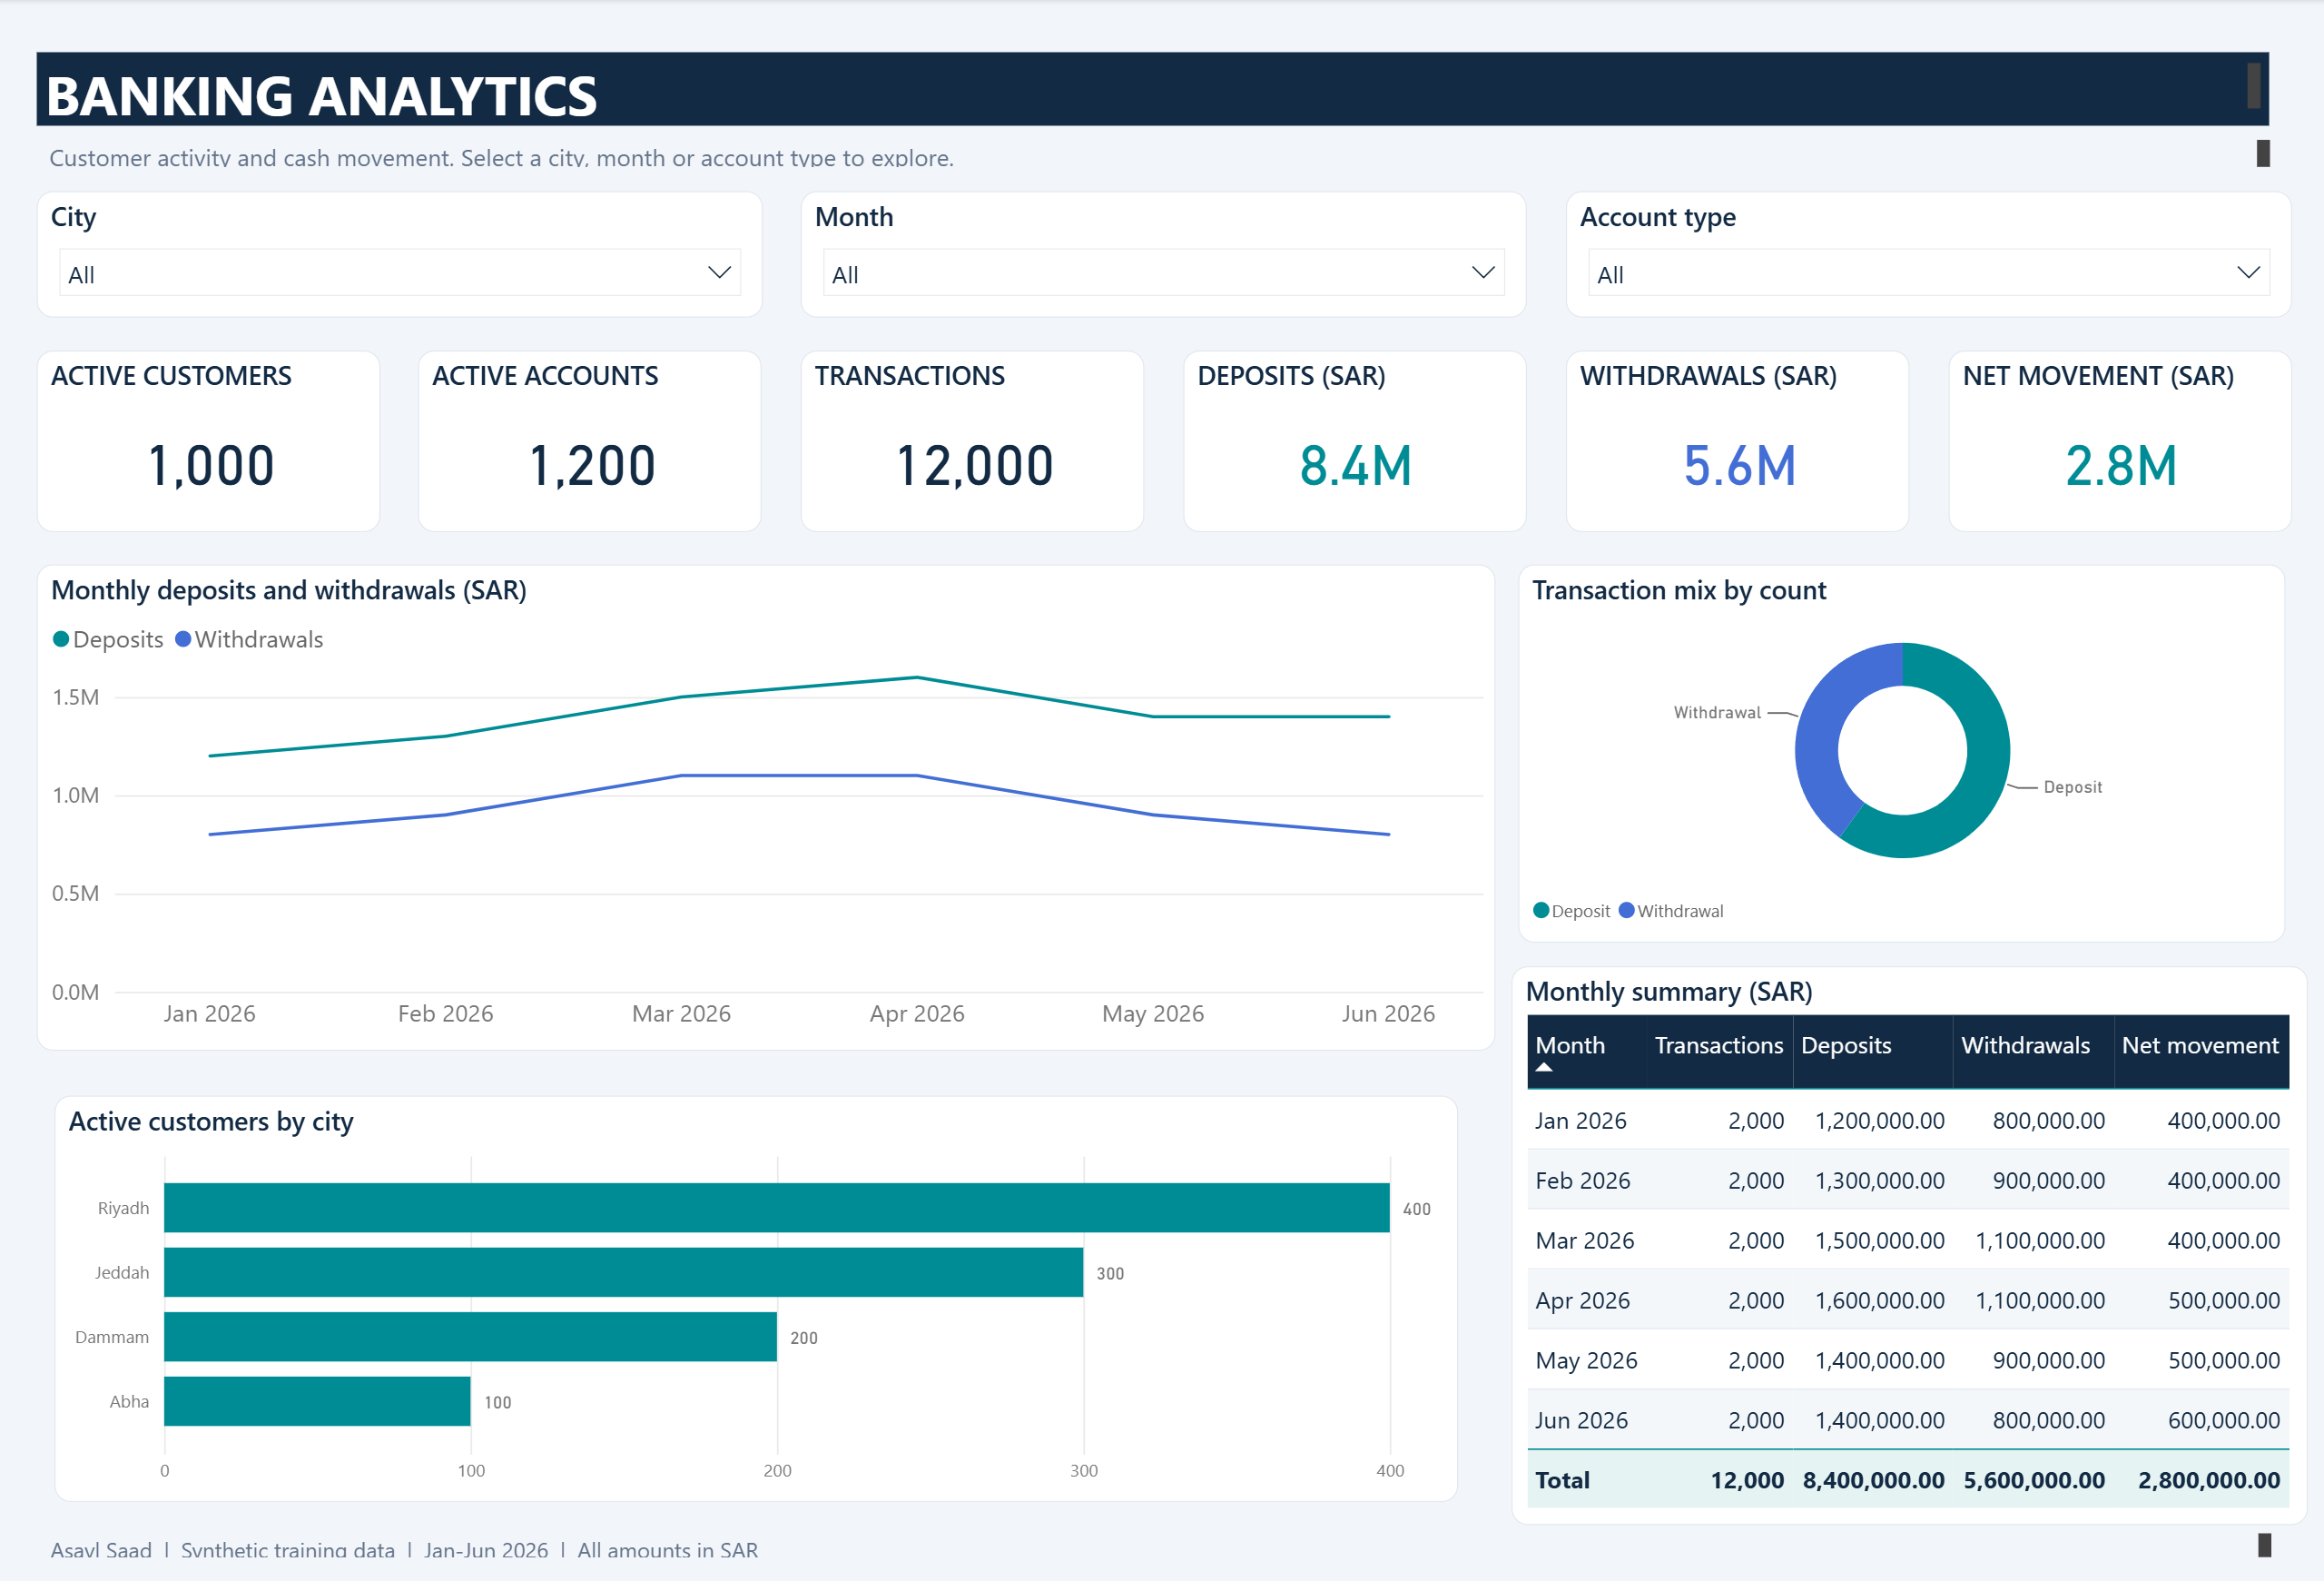

What the dashboard file says about the page in this screenshot:
{"tool":"powerbi","page":{"name":"01  Overview","canvas":[1440,960],"ordinal":0},"visuals":[{"type":"textbox","box":[24.4,16,1377,45.4],"z":0},{"type":"textbox","box":[27,65,1380,27],"z":1000},{"type":"textbox","box":[28,924,1380,25],"z":2000},{"type":"slicer","title":"City","fields":{"Values":["Customers.City"]},"box":[24,102,448,78],"z":3000},{"type":"slicer","title":"Month","fields":{"Values":["Calendar.YearMonth"]},"box":[496,102,448,78],"z":4000},{"type":"slicer","title":"Account type","fields":{"Values":["Accounts.AccountType"]},"box":[968,102,448,78],"z":5000},{"type":"card","title":"ACTIVE CUSTOMERS","fields":{"Values":["Transactions.Active Customers"]},"box":[24,200,212,112],"z":6000},{"type":"card","title":"ACTIVE ACCOUNTS","fields":{"Values":["Transactions.Active Accounts"]},"box":[260,200,212,112],"z":7000},{"type":"card","title":"TRANSACTIONS","fields":{"Values":["Transactions.Total Transactions"]},"box":[496,200,212,112],"z":8000},{"type":"card","title":"DEPOSITS (SAR)","fields":{"Values":["Transactions.Total Deposits"]},"box":[732,200,212,112],"z":9000},{"type":"card","title":"WITHDRAWALS (SAR)","fields":{"Values":["Transactions.Total Withdrawals"]},"box":[968,200,212,112],"z":10000},{"type":"card","title":"NET MOVEMENT (SAR)","fields":{"Values":["Transactions.Net Movement"]},"box":[1204,200,212,112],"z":11000},{"type":"lineChart","title":"Monthly deposits and withdrawals (SAR)","fields":{"Category":["Calendar.YearMonth"],"Y":["Transactions.Total Deposits","Transactions.Total Withdrawals"]},"box":[24.4,331.9,899.8,299.9],"z":12000},{"type":"donutChart","title":"Transaction mix by count","fields":{"Category":["Transactions.TransactionType"],"Y":["Transactions.Total Transactions"]},"box":[938.4,331.9,473,233.6],"z":13000},{"type":"clusteredBarChart","title":"Active customers by city","fields":{"Category":["Customers.City"],"Y":["Transactions.Active Customers"]},"box":[35.3,659.5,866.2,250.4],"z":14000},{"type":"tableEx","title":"Monthly summary (SAR)","fields":{"Values":["Calendar.YearMonth","Transactions.Total Transactions","Transactions.Total Deposits","Transactions.Total Withdrawals","Transactions.Net Movement"]},"box":[934.2,579.7,491.5,344.5],"z":15000}]}

Visuals, with their boxes in screenshot pixels (x1, y1, x2, y2), scaled from the page's 1440x960 canvas onto the 2324x1581 screenshot:
textbox: (x1=39, y1=26, x2=2261, y2=101)
textbox: (x1=44, y1=107, x2=2270, y2=152)
textbox: (x1=45, y1=1522, x2=2272, y2=1563)
"City" slicer: (x1=39, y1=168, x2=762, y2=296)
"Month" slicer: (x1=801, y1=168, x2=1523, y2=296)
"Account type" slicer: (x1=1562, y1=168, x2=2285, y2=296)
"ACTIVE CUSTOMERS" card: (x1=39, y1=330, x2=381, y2=514)
"ACTIVE ACCOUNTS" card: (x1=419, y1=330, x2=762, y2=514)
"TRANSACTIONS" card: (x1=801, y1=330, x2=1143, y2=514)
"DEPOSITS (SAR)" card: (x1=1181, y1=330, x2=1523, y2=514)
"WITHDRAWALS (SAR)" card: (x1=1562, y1=330, x2=1905, y2=514)
"NET MOVEMENT (SAR)" card: (x1=1943, y1=330, x2=2285, y2=514)
"Monthly deposits and withdrawals (SAR)" lineChart: (x1=39, y1=547, x2=1492, y2=1041)
"Transaction mix by count" donutChart: (x1=1514, y1=547, x2=2278, y2=932)
"Active customers by city" clusteredBarChart: (x1=57, y1=1086, x2=1455, y2=1498)
"Monthly summary (SAR)" tableEx: (x1=1508, y1=954, x2=2301, y2=1522)
